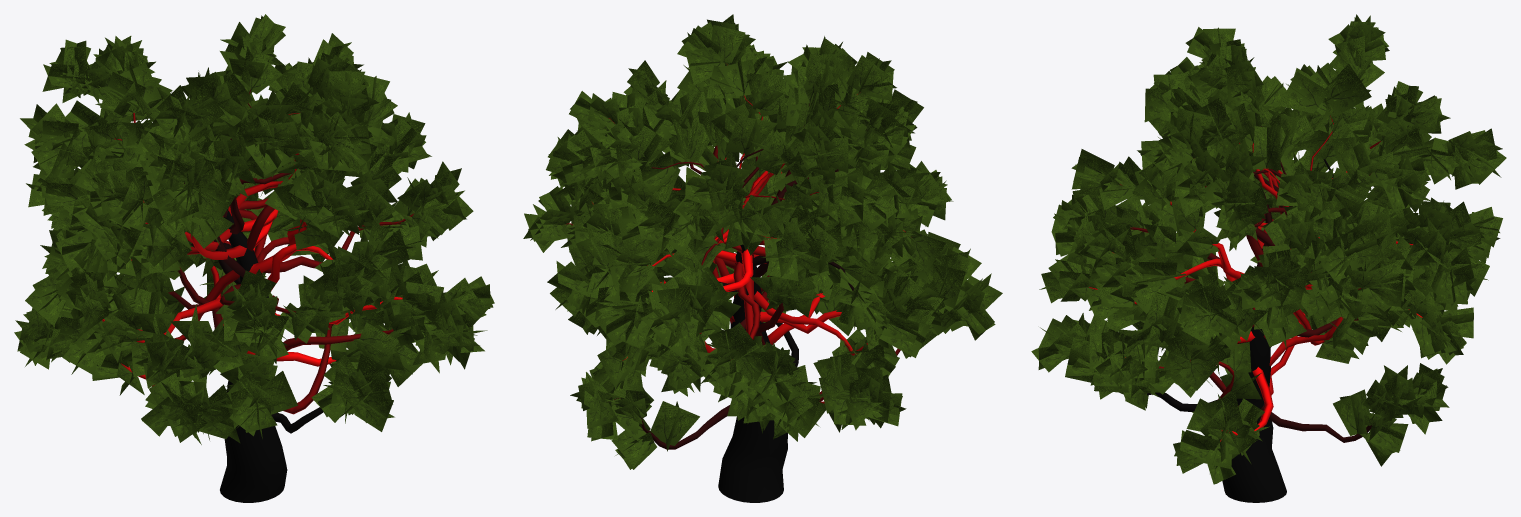
Rendered from oak7 lod0.FBX.
3 views of the same model, side by side, from view 1: azimuth 30°, elevation 25°; view 2: azimuth 150°, elevation 25°; view 3: azimuth 270°, elevation 25° (orthographic). The views are drawn at different scales.
Visible parts, largest first — view 1: oak7; view 2: oak7; view 3: oak7.
Boxes of the visible parts, bbox=[...] form: oak7: bbox=[14, 14, 494, 502]; oak7: bbox=[523, 14, 1002, 502]; oak7: bbox=[1031, 14, 1506, 502].
Size of the model in its own units: 191042 by 201557 by 203640.
